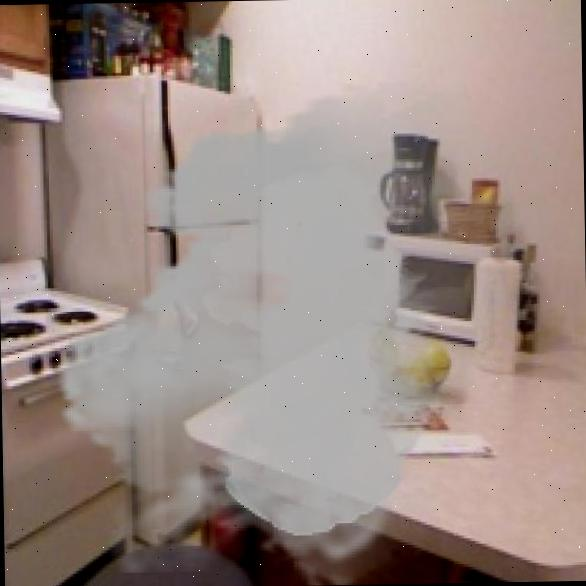smoke: (30, 79, 586, 586)
